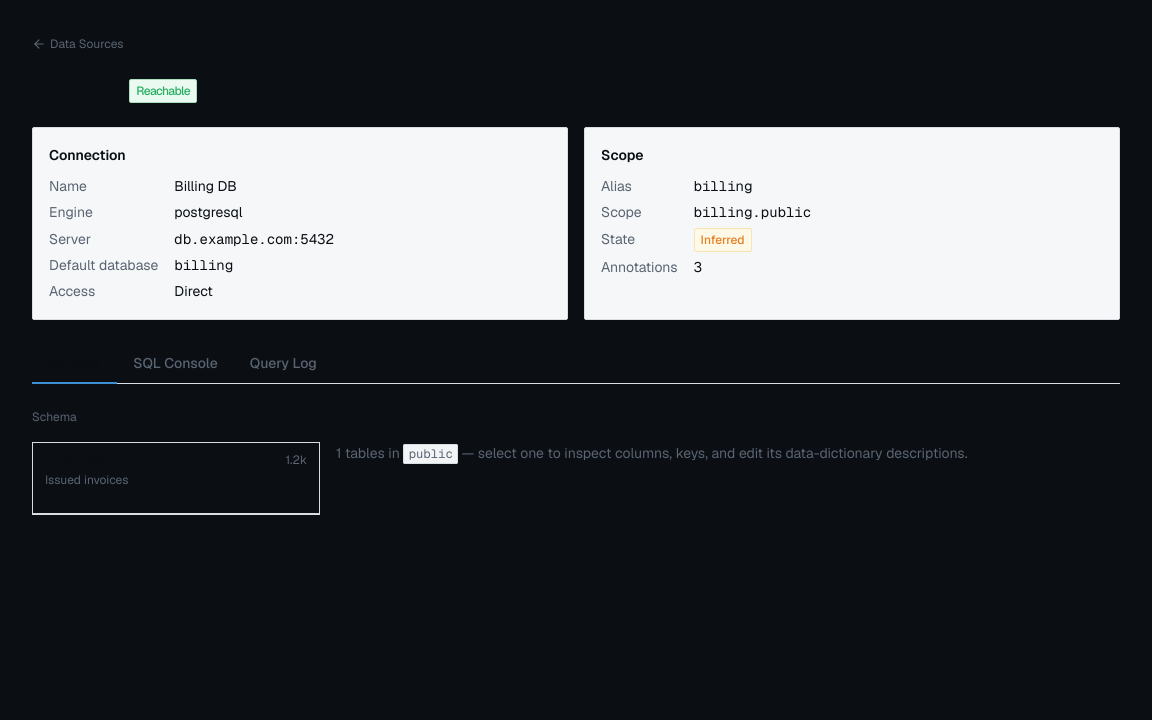
Test: Data source detail › refuses to save descriptions when the schema of the scope is unknown
This screenshot has width=1152, height=720.
Click the button "invoices 1.2k Issued invoices" at (74, 460), box [33,443,319,514]
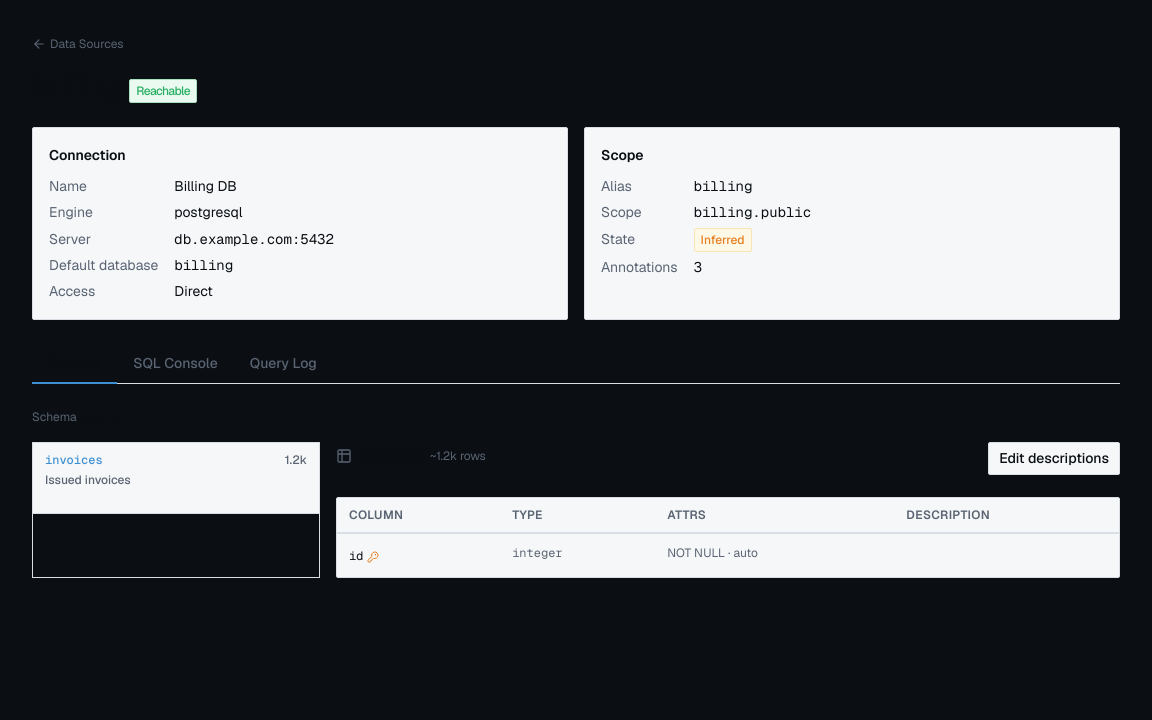
Click the button "Edit descriptions" at (1054, 458), box [988,442,1120,474]
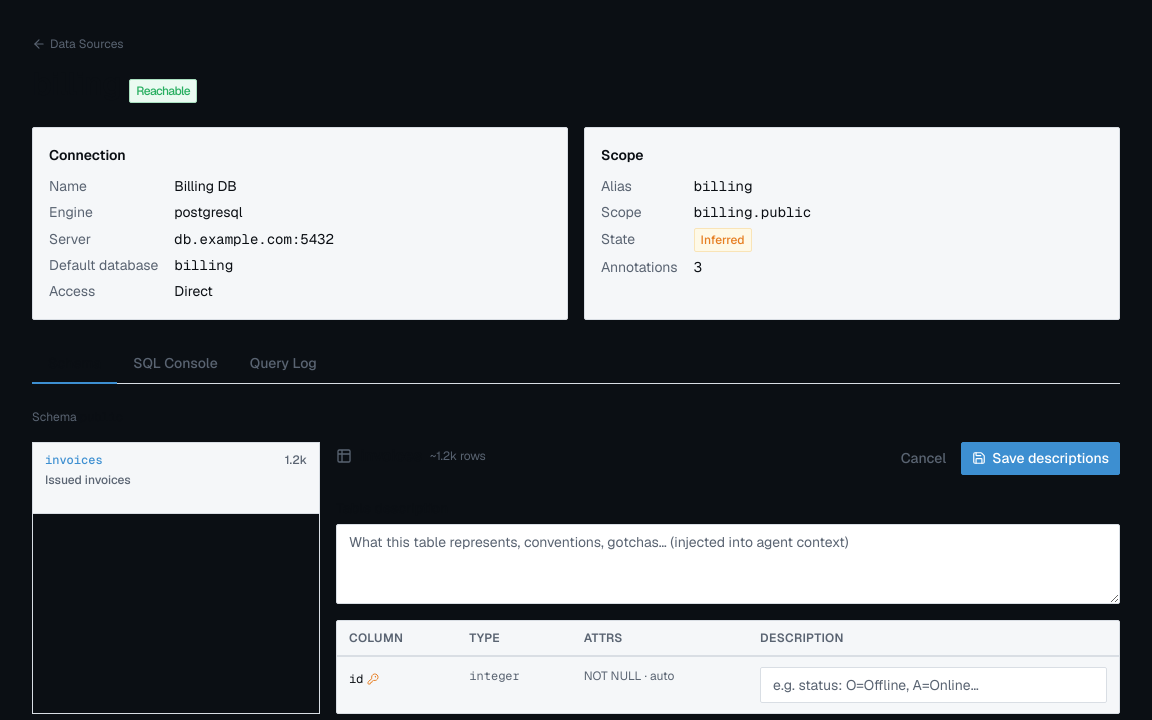
Click the button "Save descriptions" at (1041, 458), box [961,442,1120,474]
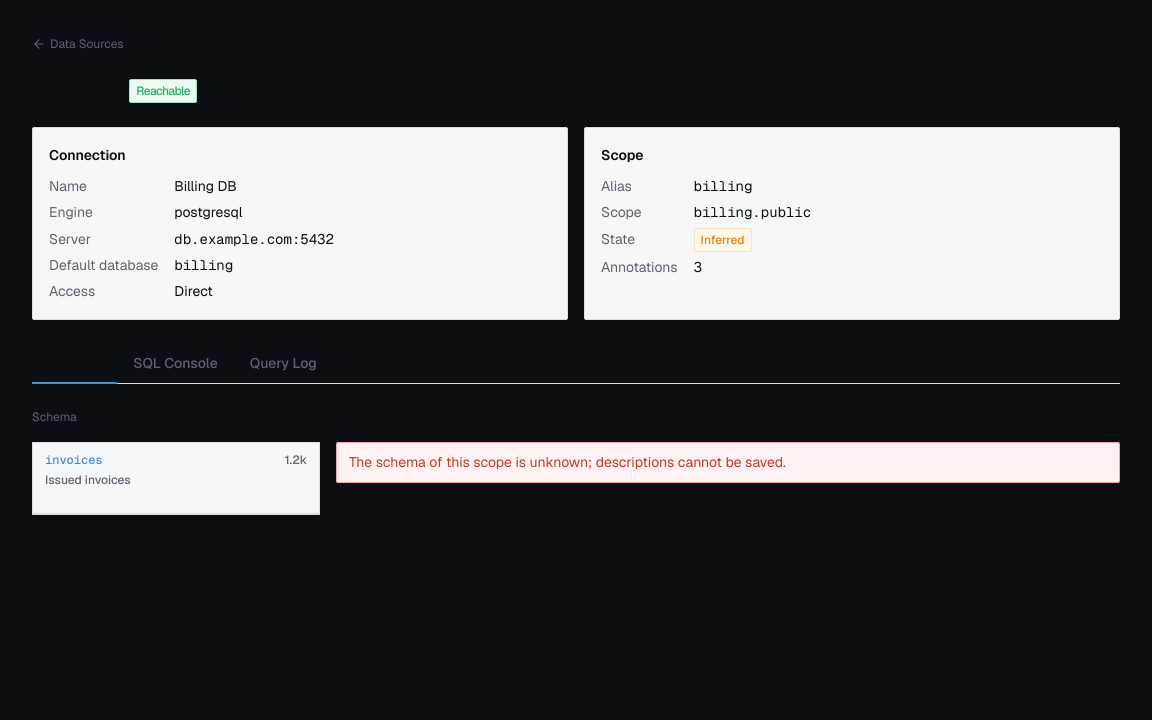
Expected: the text "The schema of this scope is unknown; descriptions cannot be saved." is shown, [336,442,1120,482]
